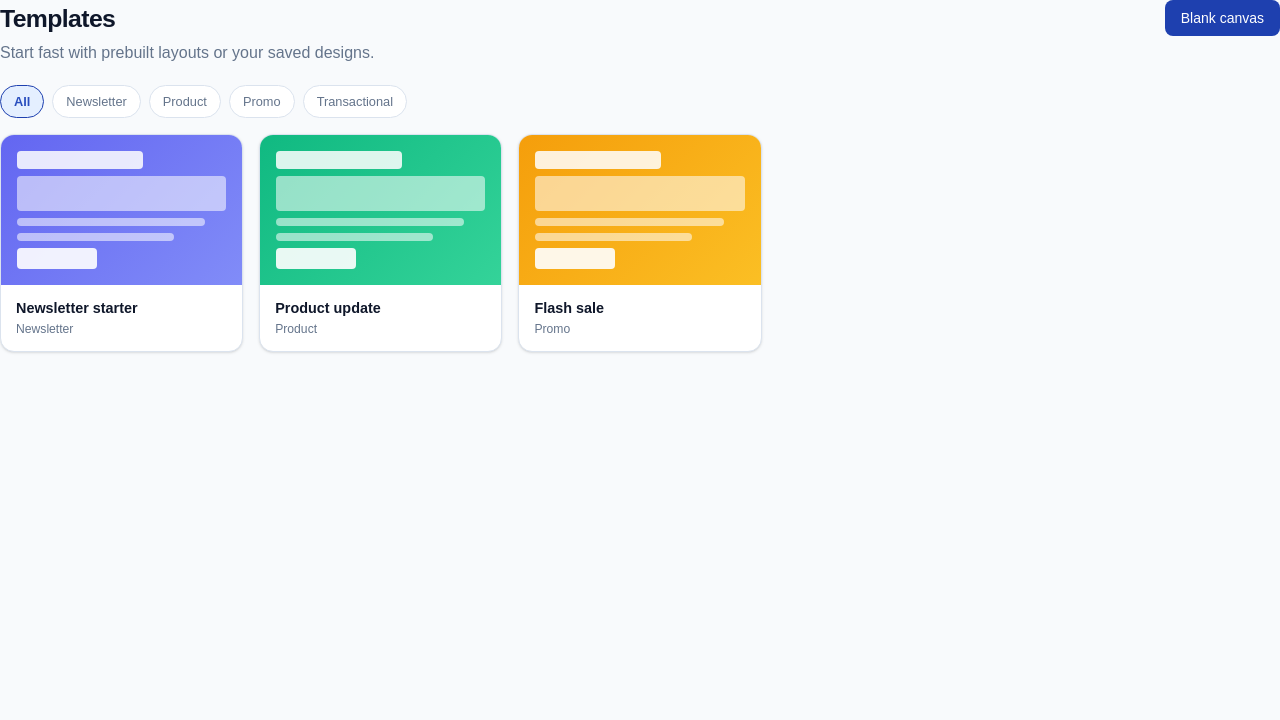
Test: clicking a card opens a dialog with brand select and subject input
Expected: the text "Newsletter starter" is shown, [16,300,138,316]
What coordinates should you click on to do the following:
click the button "Newsletter starter Newsletter"
I would click on:
 (122, 243)
Its box is [1,135,242,351].
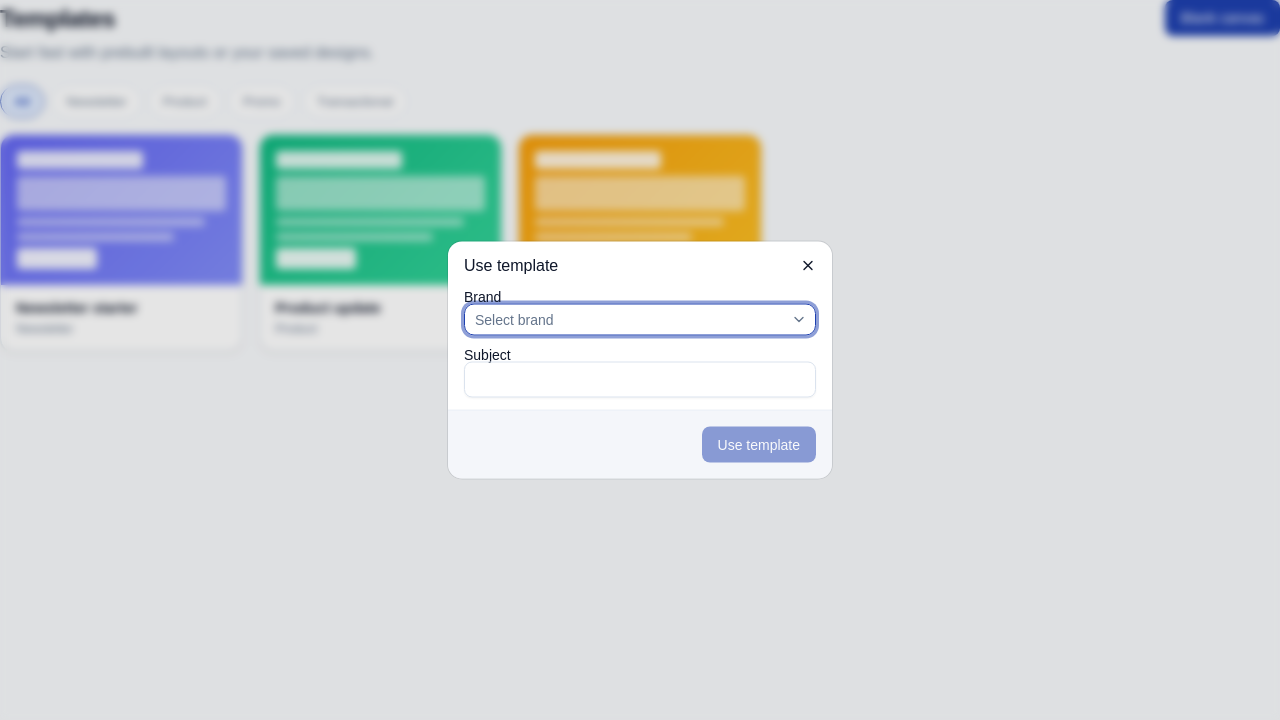
Result: the dialog is shown at [448,242,832,478]
Result: the dropdown labelled "brand" is shown at [464,304,816,336]
Result: the field labelled "Subject" is shown at [464,362,816,398]
